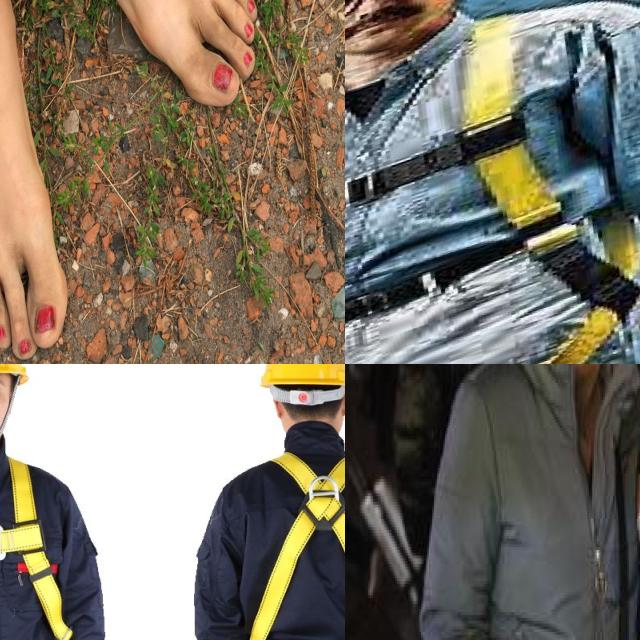Barefoots: (0, 0, 257, 106), (0, 0, 67, 360)
Harness: (345, 13, 640, 364), (237, 452, 345, 640), (0, 457, 73, 640)
person: (453, 364, 640, 640)
